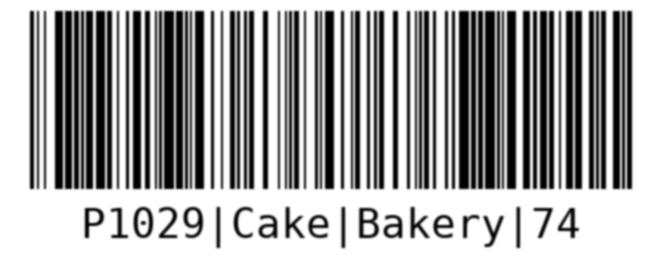milk: (25, 6, 637, 258)
